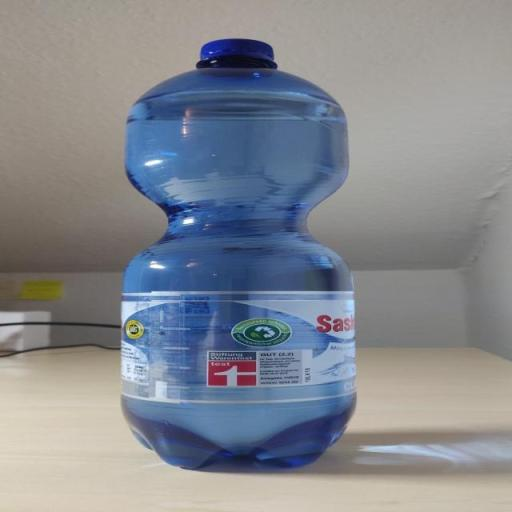plastic: (121, 38, 356, 472)
